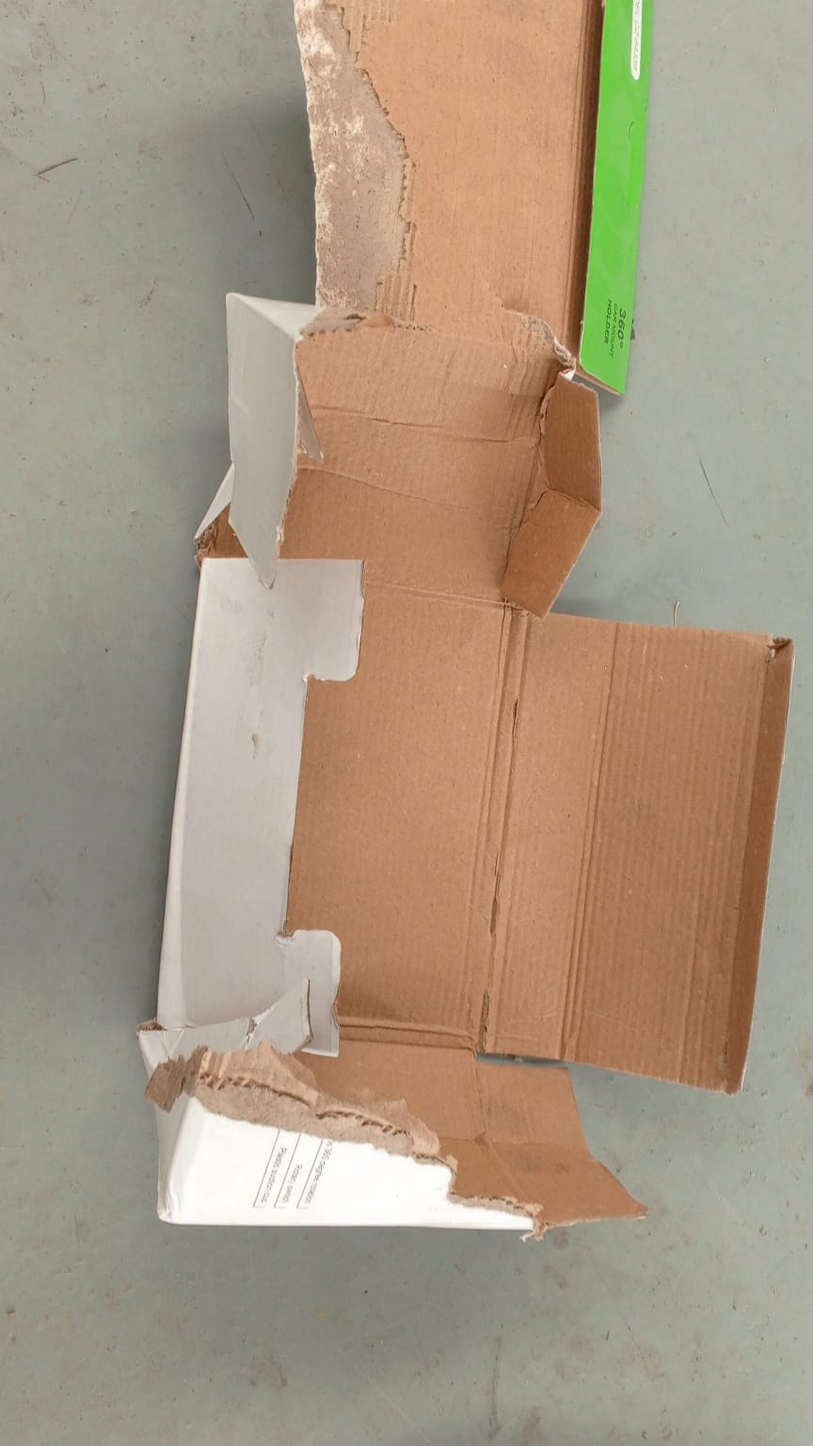Carton: (153, 0, 788, 1226)
